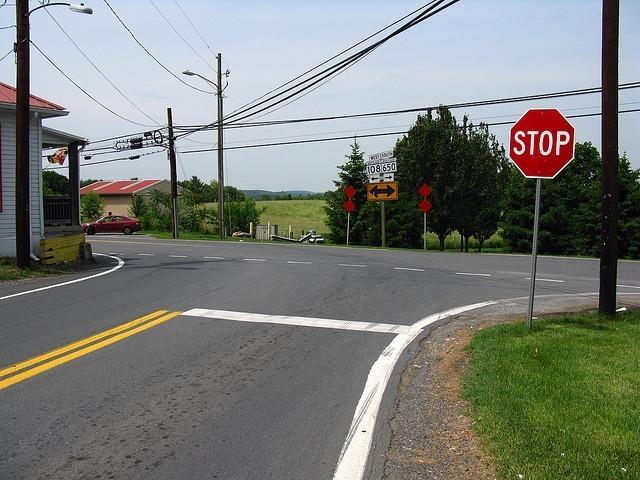car: (81, 214, 142, 236), (308, 234, 324, 244), (232, 231, 251, 238)
